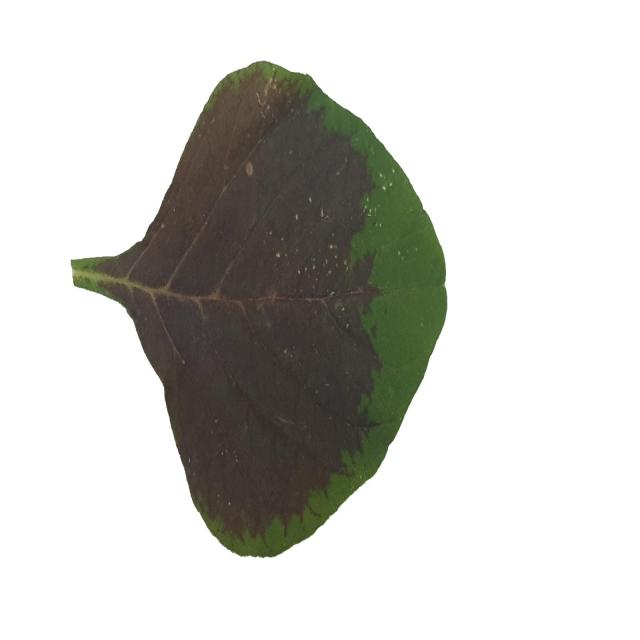Medicinal-Arive Dantu: (70, 54, 450, 557)
